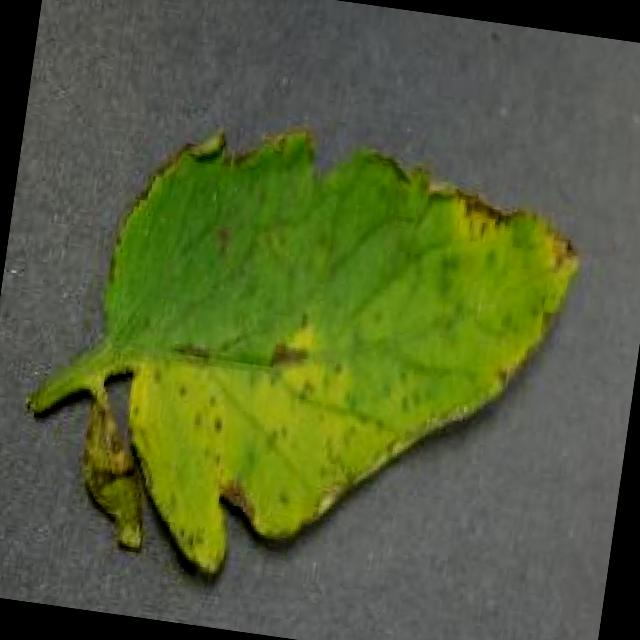bacterial spot: (32, 125, 577, 581)
